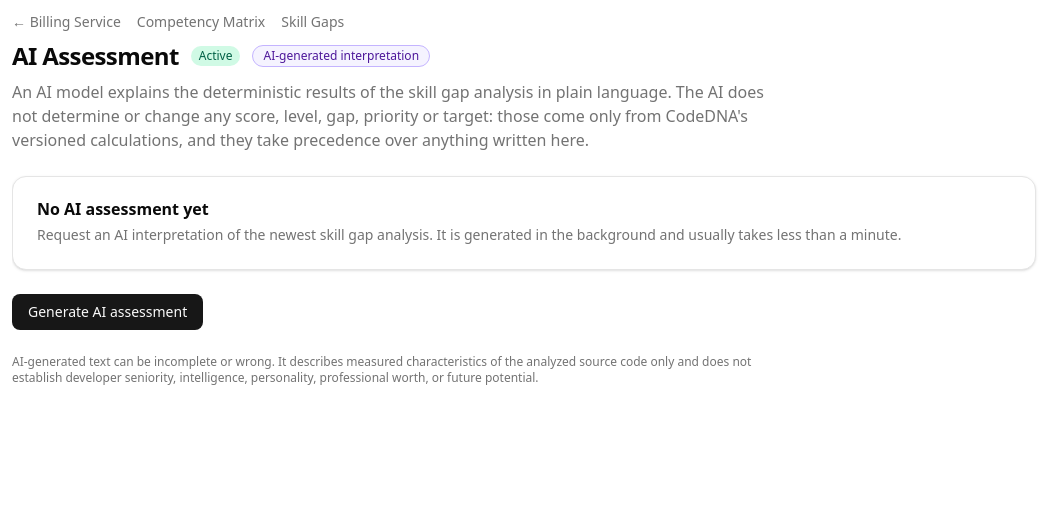
AssessmentView › links to Billing when the plan refuses with QUOTA_EXCEEDED
Click the button "Generate AI assessment".
click(108, 312)  # box [12,294,203,330]
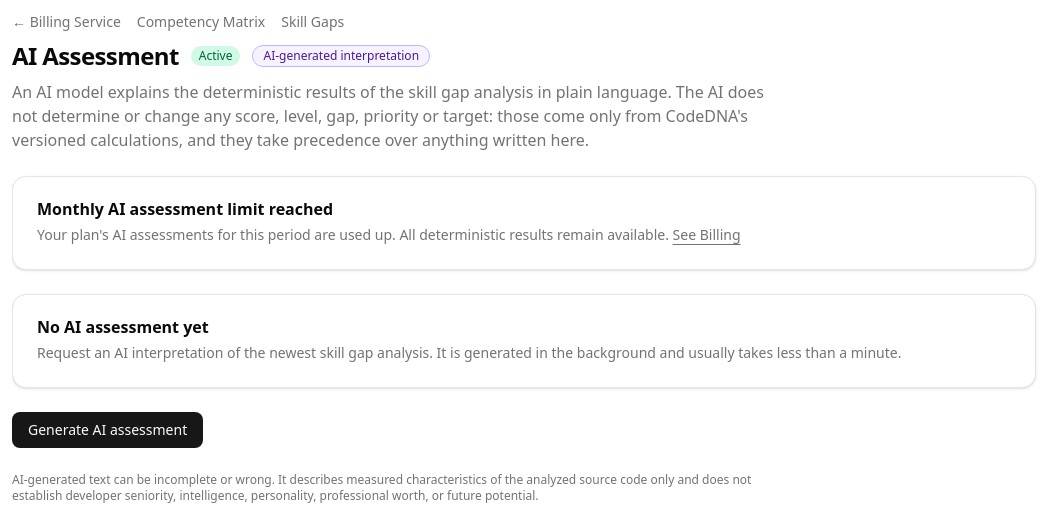
Now the element with test id "assessment-plan" shows "Monthly AI assessment limit reached", box [37,198,333,220]
